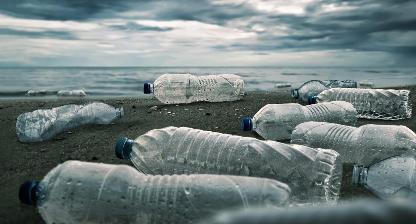Plastic Bottle: (117, 127, 344, 208), (16, 160, 294, 224), (13, 100, 128, 144), (241, 100, 359, 140), (307, 86, 414, 124), (140, 72, 248, 106), (348, 157, 416, 205)
